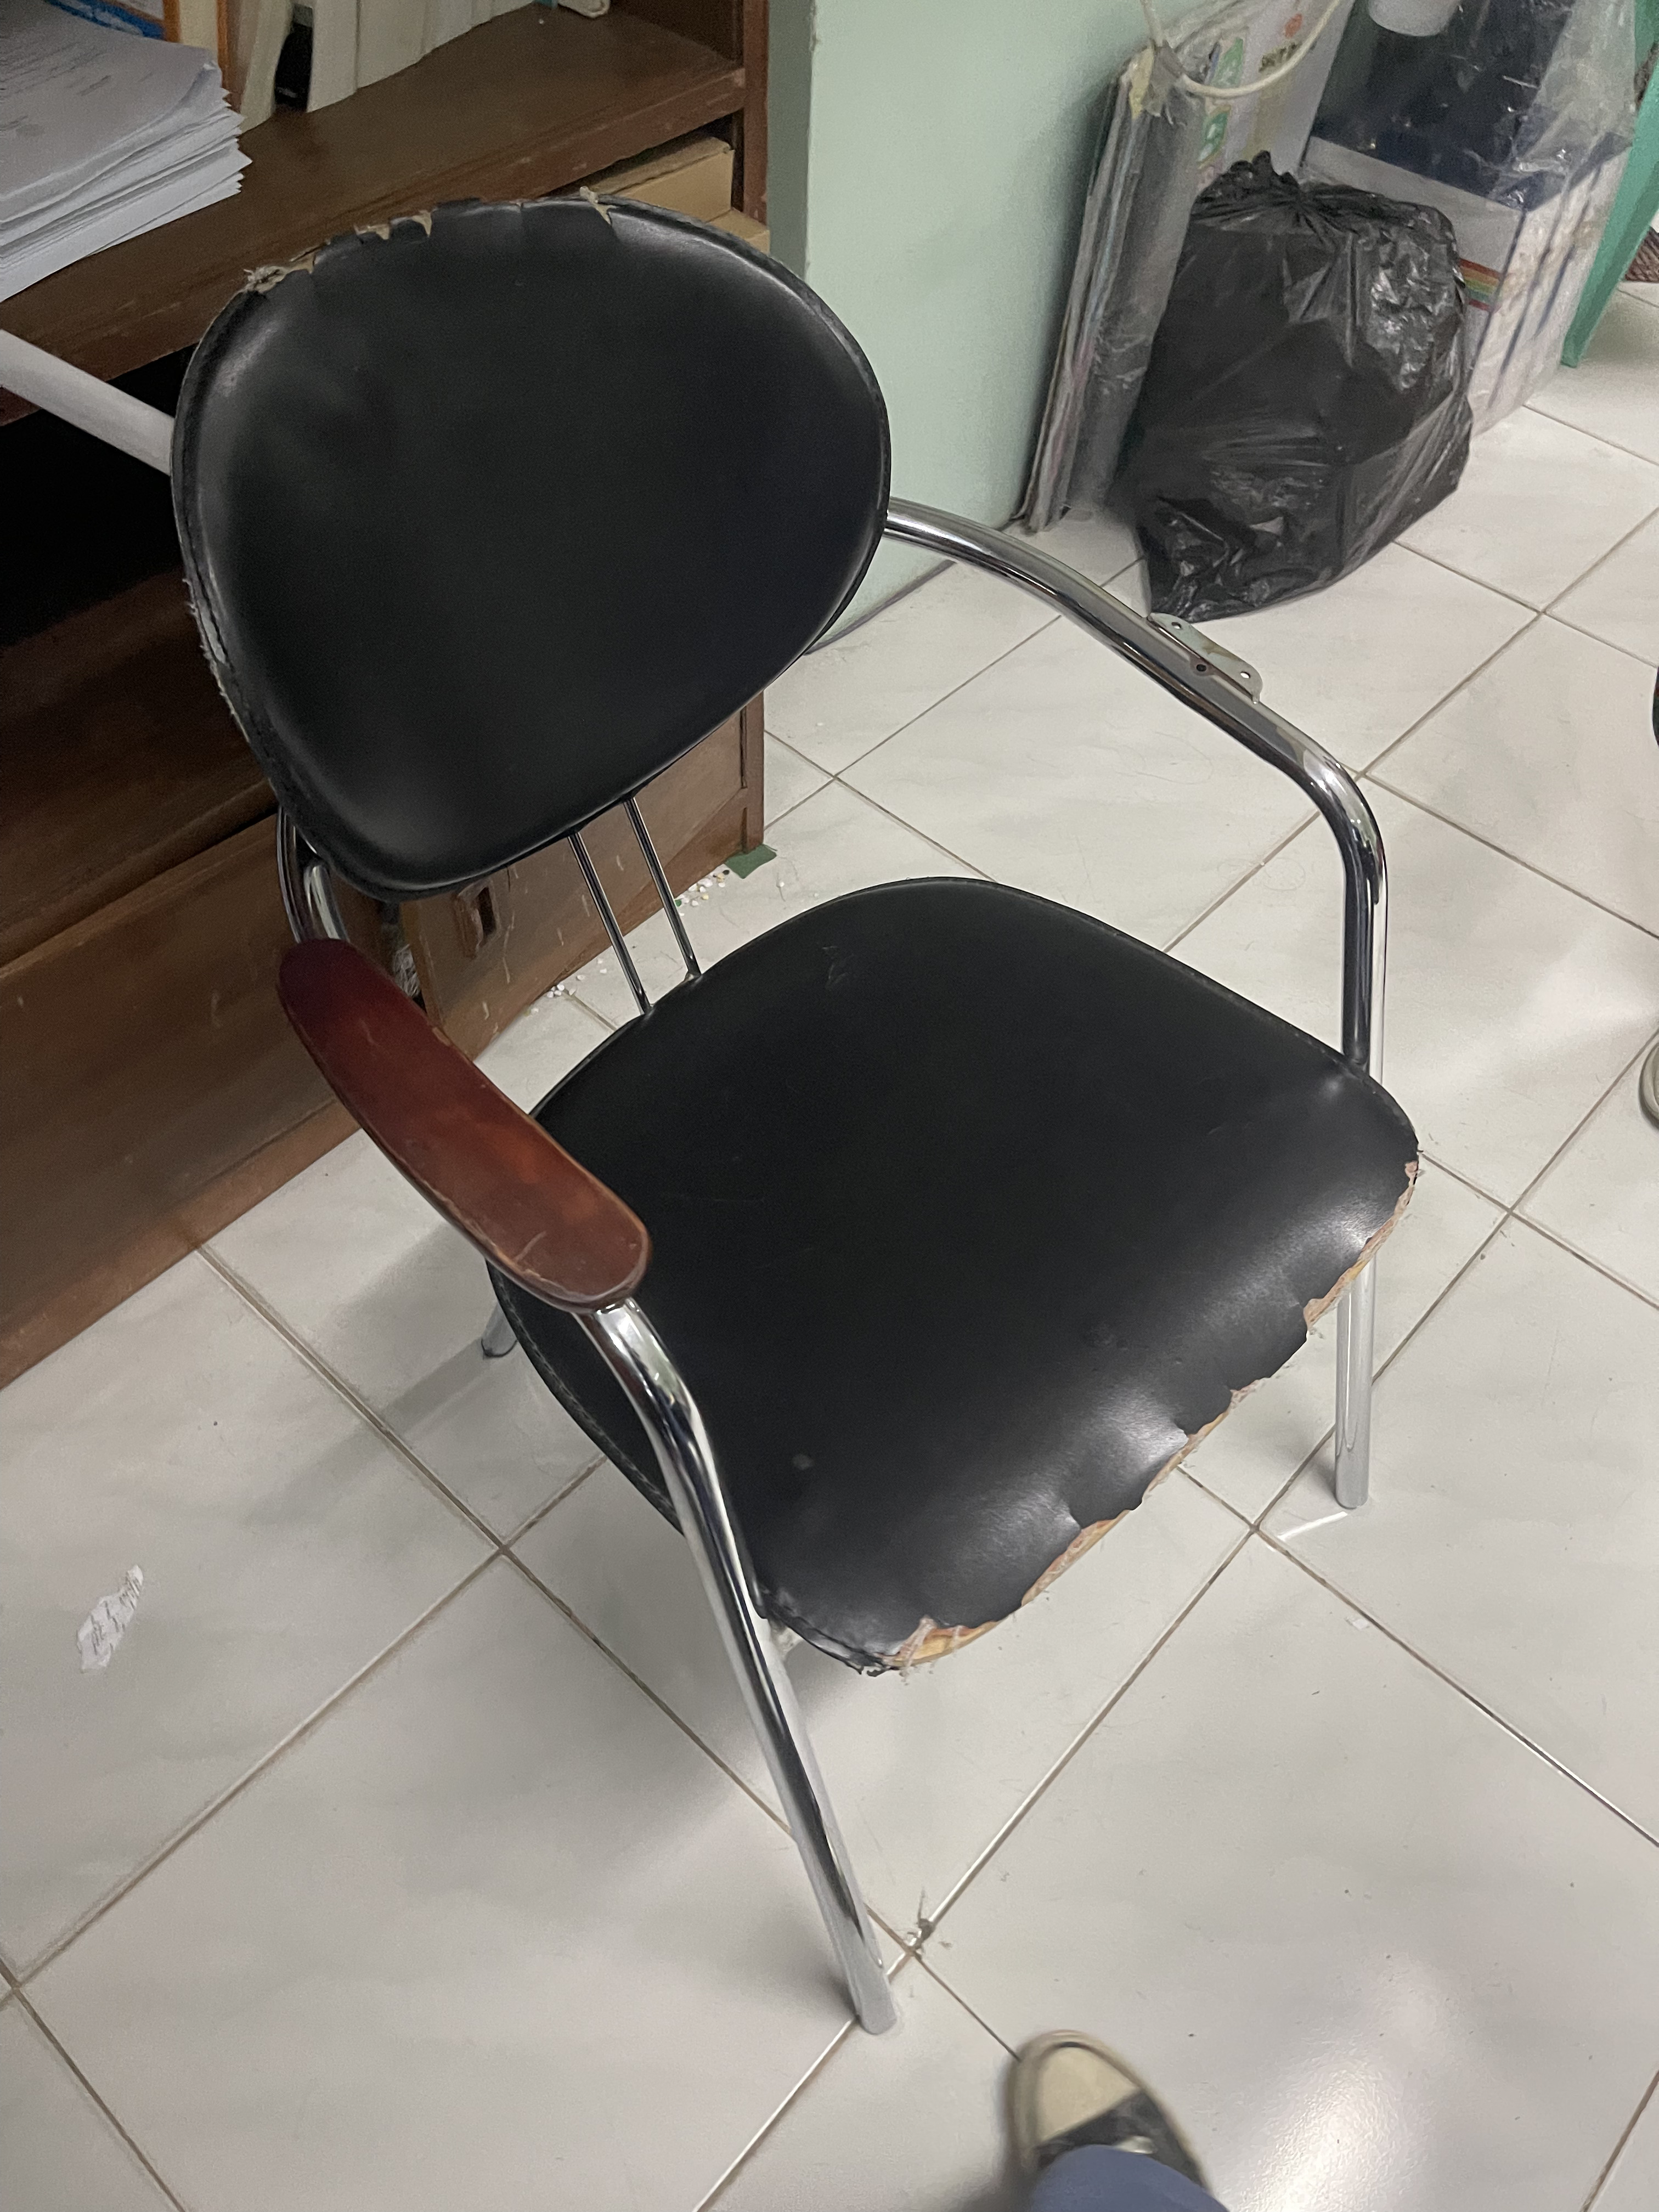chair1: (164, 197, 1427, 2047)
